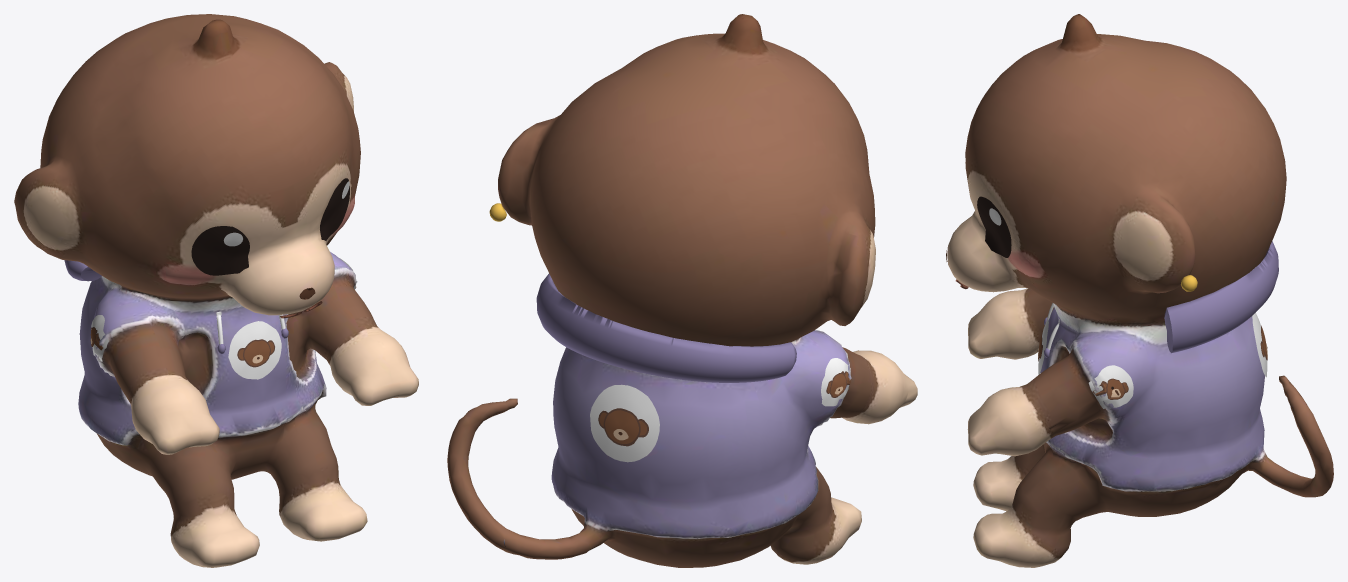
File: monkey.glb
3 renders of one model, left to right at view 1: azimuth 30°, elevation 25°; view 2: azimuth 150°, elevation 25°; view 3: azimuth 270°, elevation 25°, orthographic. The views are drawn at different scales.
Parts seen in each view (by area): view 1: chibi, face; view 2: chibi, face; view 3: chibi, face.
Boxes of the visible parts, x1=… form: chibi: x1=14, y1=14, x2=418, y2=567; face: x1=64, y1=178, x2=356, y2=379; chibi: x1=447, y1=14, x2=917, y2=567; face: x1=489, y1=203, x2=850, y2=462; chibi: x1=947, y1=14, x2=1333, y2=567; face: x1=946, y1=196, x2=1278, y2=408.
Size of the model in its own units: 0.8062 by 1.19 by 0.8157.
32 materials, 1 textured.
